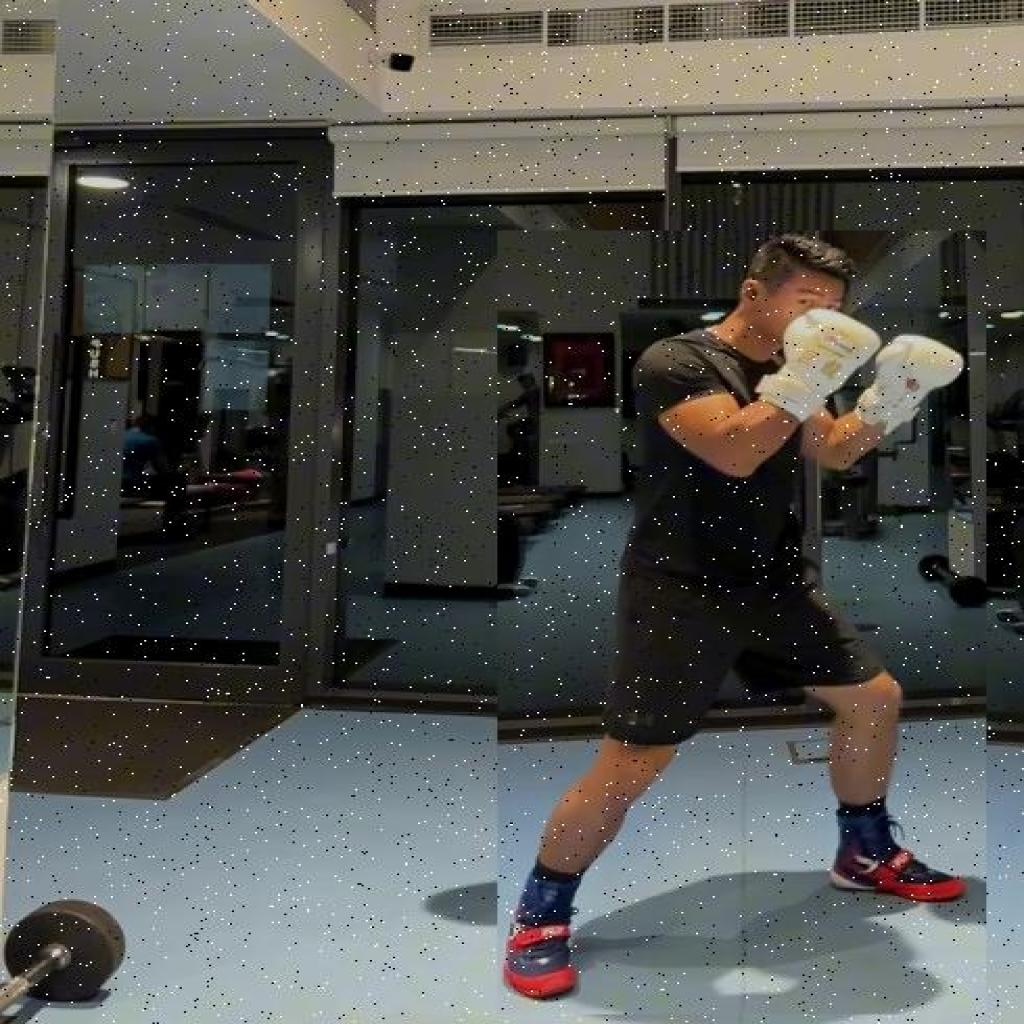no punch: (498, 230, 986, 1016)
